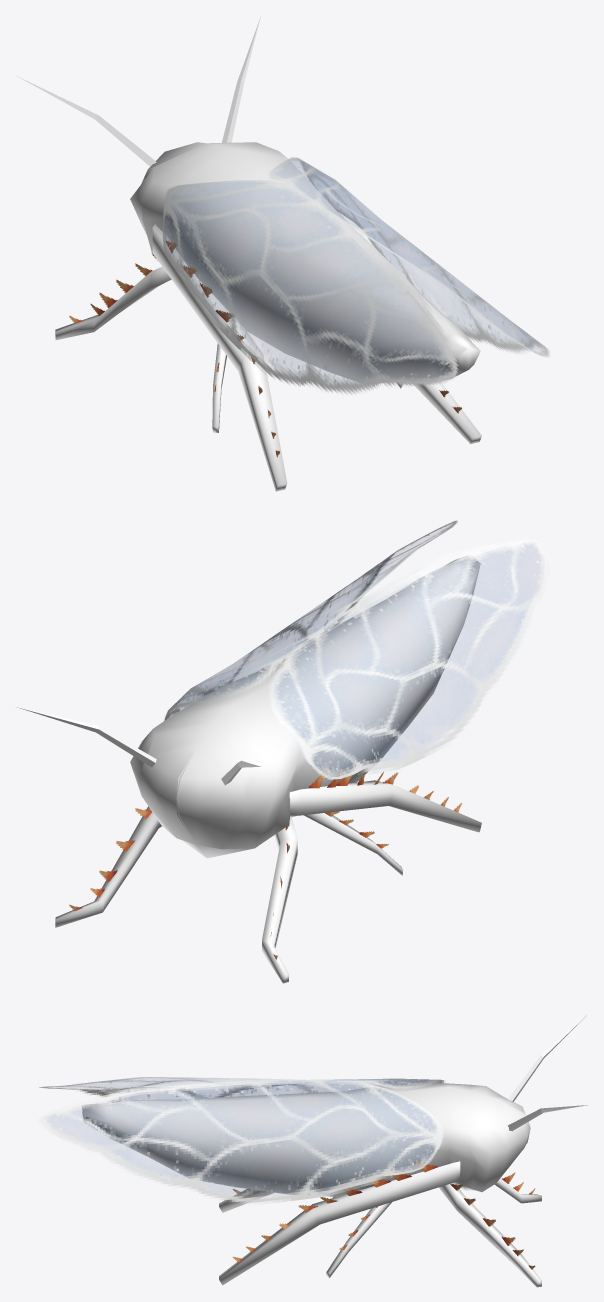
Rendered from leafhopper.glb.
3 views of the same model, one above another, from view 1: azimuth 30°, elevation 25°; view 2: azimuth 150°, elevation 25°; view 3: azimuth 270°, elevation 25° (orthographic). The views are drawn at different scales.
Parts seen in each view (by area): view 1: leafhopper; view 2: leafhopper; view 3: leafhopper.
Boxes of the visible parts, x1=… form: leafhopper: x1=17, y1=16, x2=549, y2=491; leafhopper: x1=16, y1=520, x2=549, y2=983; leafhopper: x1=37, y1=1013, x2=588, y2=1287.
Size of the model in its own units: 0.3698 by 0.3523 by 0.9738.
Materials: 3 (2 with a texture image).
